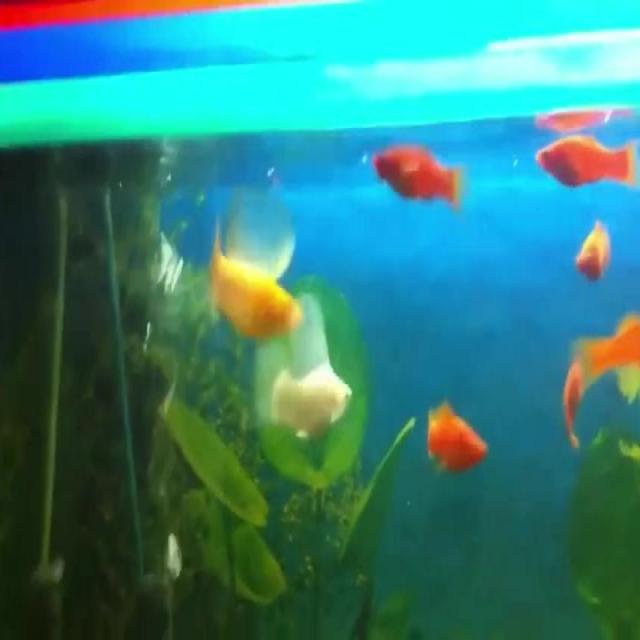PlatyFish: (241, 286, 355, 442), (198, 196, 314, 344), (366, 136, 469, 219), (529, 130, 638, 202), (422, 389, 494, 480)
